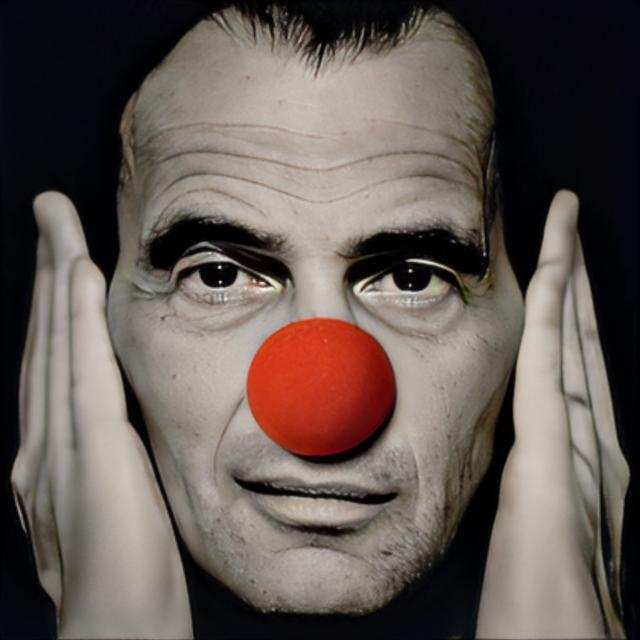content: (106, 1, 526, 614)
